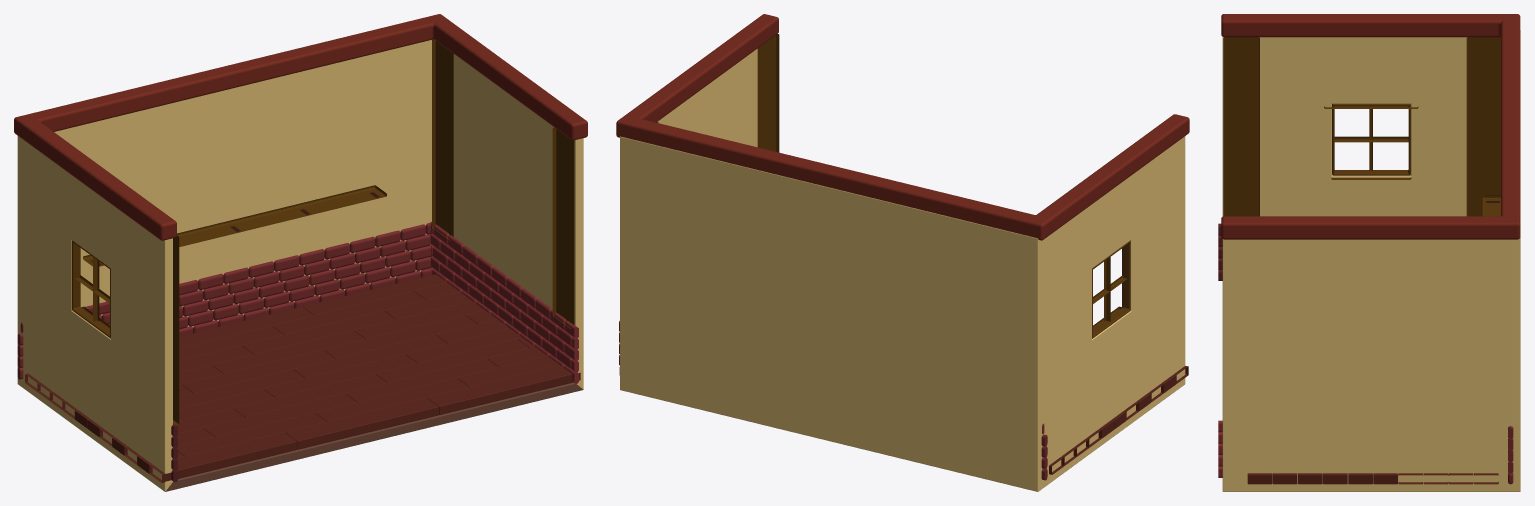
The model's file is WitchHouse_3.fbx.
The picture shows the model from 3 angles, left to right: view 1: azimuth 30°, elevation 25°; view 2: azimuth 150°, elevation 25°; view 3: azimuth 270°, elevation 25°; orthographic projection.
Visible parts, largest first — view 1: Walls_and_Floor, Floor_Tiles, Roof_Trim, Wall_Brick_Back, Wall_Supports.001, Wall_Brick_Right, Window_Frame.005, Wall_Supports, Window_Frame; view 2: Walls_and_Floor, Roof_Trim, Wall_Supports.001, Floor_Tiles, Window_Frame; view 3: Walls_and_Floor, Roof_Trim, Wall_Supports, Floor_Tiles, Window_Frame, Window_Frame.003, Window_Frame.005, Wall_Brick_Back.
Boxes of the visible parts, x1,y1,x2,y2 form: Walls_and_Floor: (17, 40, 583, 491); Floor_Tiles: (25, 274, 580, 482); Roof_Trim: (14, 14, 587, 240); Wall_Brick_Back: (17, 223, 432, 379); Wall_Supports.001: (432, 39, 574, 328); Wall_Brick_Right: (430, 221, 578, 383); Window_Frame.005: (83, 185, 386, 266); Wall_Supports: (173, 235, 179, 425); Window_Frame: (72, 240, 110, 338); Walls_and_Floor: (620, 48, 1185, 491); Roof_Trim: (616, 14, 1189, 240); Wall_Supports.001: (656, 34, 779, 152); Floor_Tiles: (1049, 366, 1188, 474); Window_Frame: (1092, 240, 1130, 338); Walls_and_Floor: (1222, 30, 1520, 491); Roof_Trim: (1221, 14, 1520, 239); Wall_Supports: (1223, 37, 1500, 216); Floor_Tiles: (1247, 473, 1498, 484); Window_Frame: (1332, 104, 1410, 175); Window_Frame.003: (1334, 136, 1408, 142); Window_Frame.005: (1482, 195, 1500, 216); Wall_Brick_Back: (1508, 426, 1513, 484).
Size of the model in its own units: 1258 by 754 by 763.
